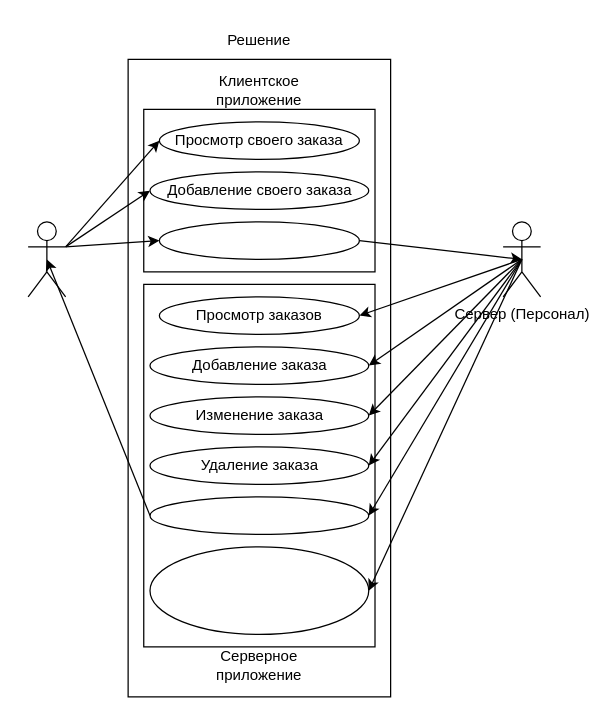
Some shapes in this 611 by 719 pixel diagram are drawn without their labels. Each missing label, with the box of its shape:
Кли ент: (27, 221, 66, 297)
Просмотр работы сервера через встроенную консоль и логи: (149, 546, 369, 634)
Связь с клиентом: (149, 496, 369, 534)
Связь с персоналом: (158, 221, 359, 259)
